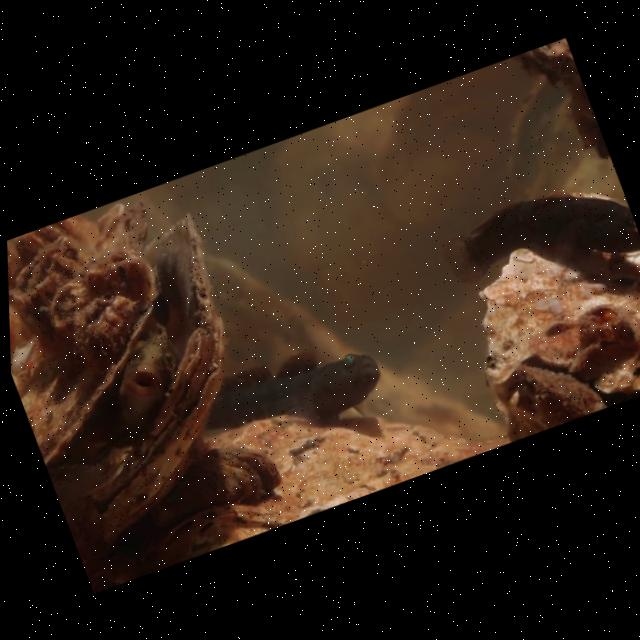Oyster-Open: (14, 207, 232, 534)
